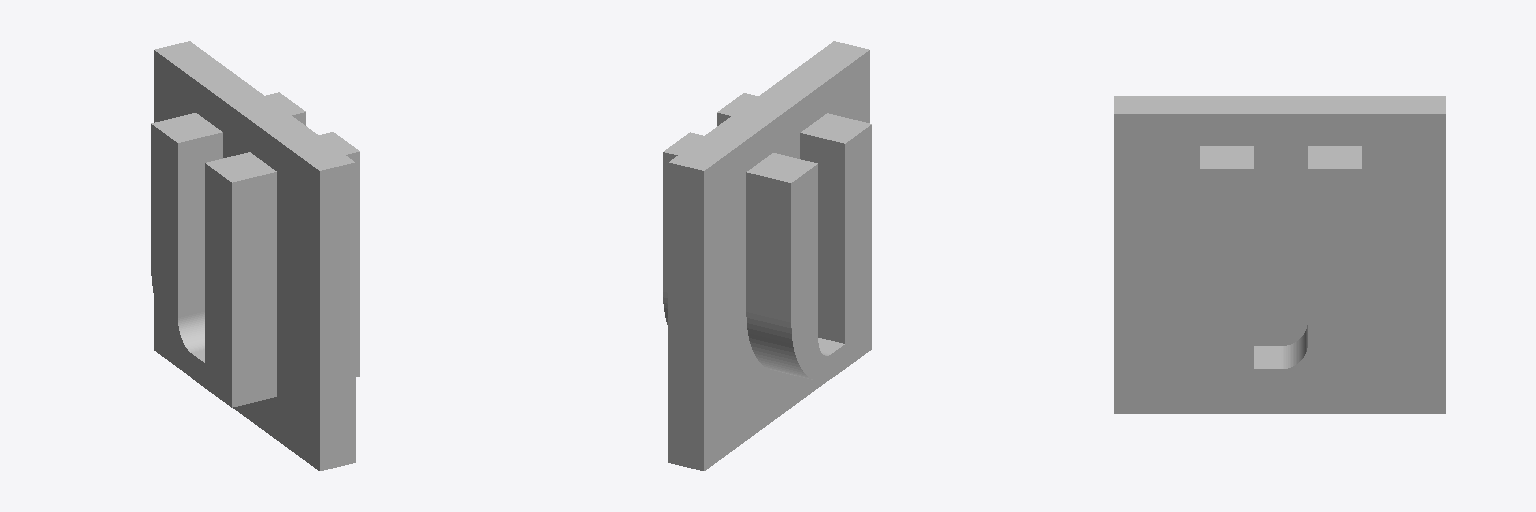
Rendered from letter_V.obj.
The picture shows the model from 3 angles: view 1: azimuth 30°, elevation 25°; view 2: azimuth 150°, elevation 25°; view 3: azimuth 270°, elevation 25°; orthographic projection.
Parts seen in each view (by area): view 1: window, Text; view 2: window, Text; view 3: window, Text.
Boxes of the visible parts, x1,y1,x2,y2 form: window: [154, 41, 355, 470]; Text: [151, 92, 359, 407]; window: [668, 41, 869, 470]; Text: [663, 93, 871, 380]; window: [1114, 96, 1445, 413]; Text: [1200, 146, 1361, 393].
Bounding box in the file's own units: 0.894 × 2 × 2.